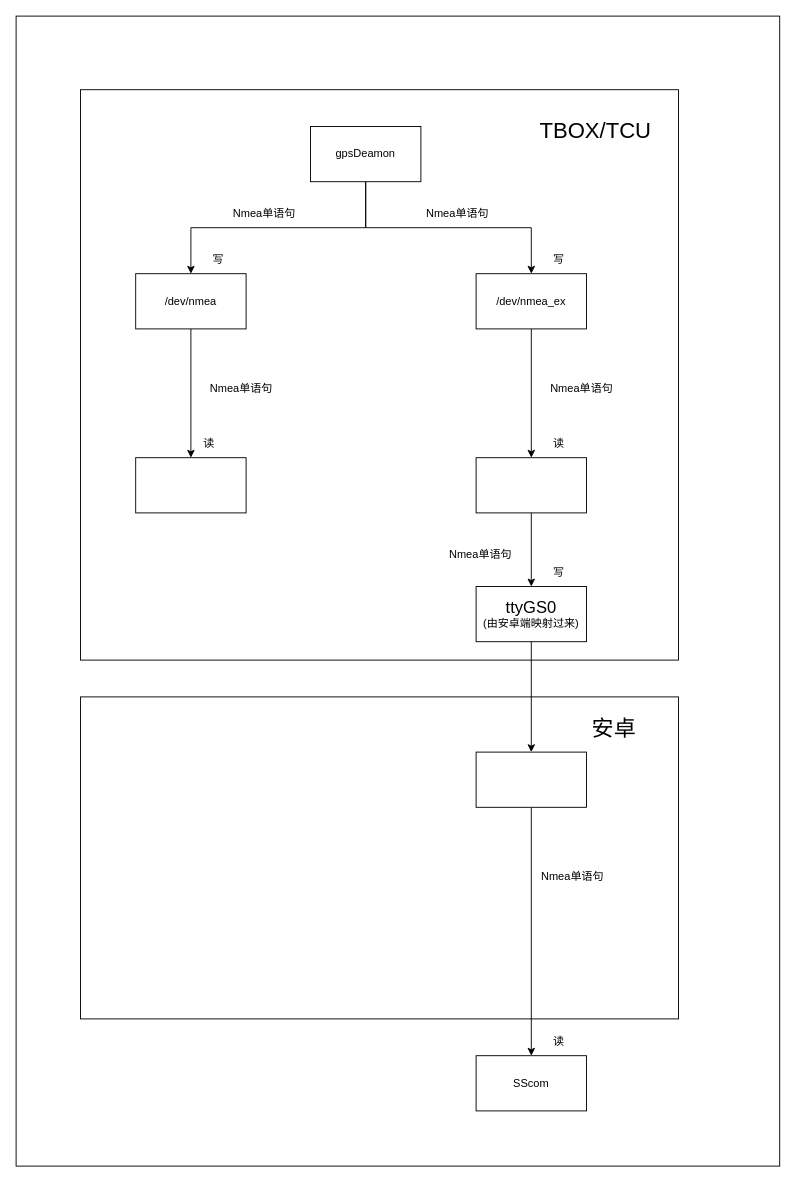
Image size: 796x1182. Some labels were removed from this diagram. Here are the shapes that lost their labels. From the top down, the box of each, then its label:
(135, 457, 246, 513): 给客户的posManager
(475, 457, 586, 513): gpshander转发
(475, 751, 586, 807): ttyGS0
